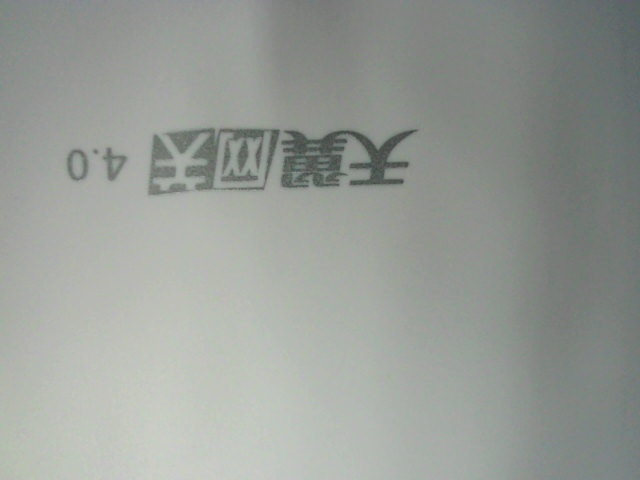BM_TianYiWangGuan: (61, 114, 428, 195)
